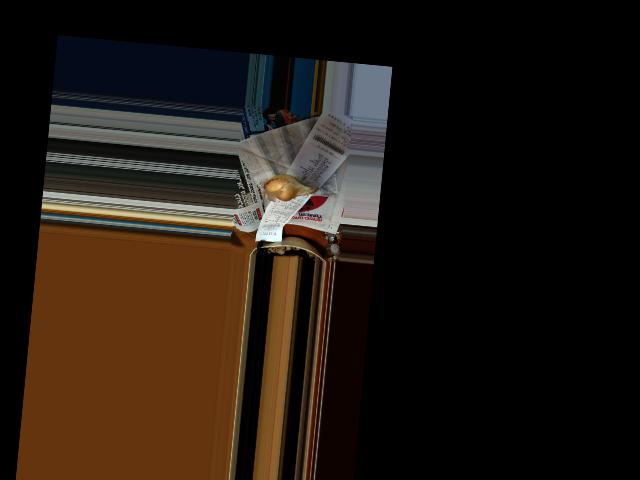onion: (265, 174, 307, 201)
